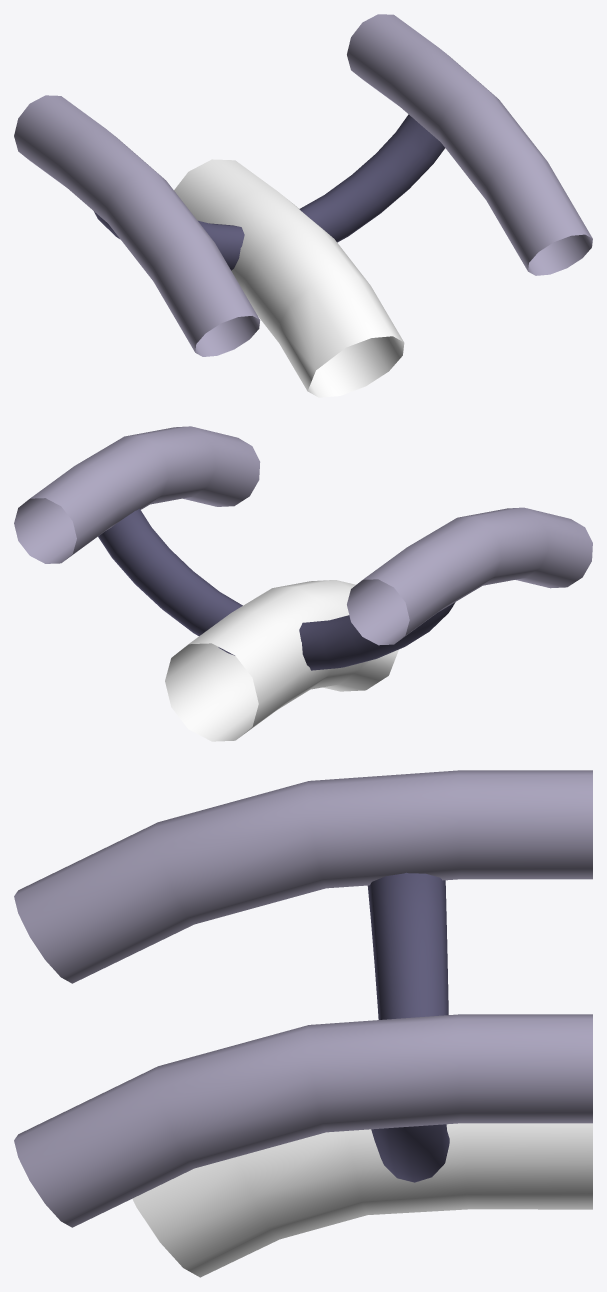
File: rail-up-end.glb
3 views of the same model, one above another, from view 1: azimuth 30°, elevation 25°; view 2: azimuth 150°, elevation 25°; view 3: azimuth 270°, elevation 25° (orthographic). The views are drawn at different scales.
Visible parts, largest first — view 1: Plane.290_Material.001_0; view 2: Plane.290_Material.001_0; view 3: Plane.290_Material.001_0.
Boxes of the visible parts, x1,y1,x2,y2 form: Plane.290_Material.001_0: [14, 14, 592, 397]; Plane.290_Material.001_0: [14, 426, 592, 741]; Plane.290_Material.001_0: [14, 770, 592, 1277].
Bounding box in the file's own units: 2.74 × 1.63 × 2.31.
1 material, 1 textured.
